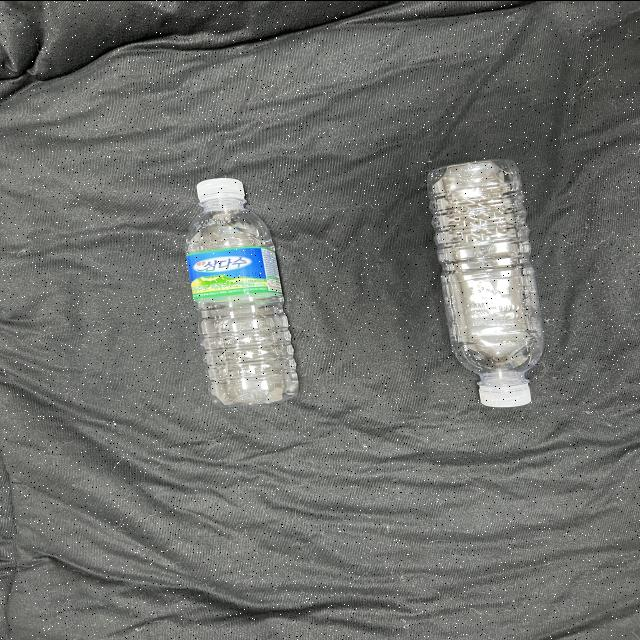plastic: (409, 141, 560, 417), (168, 160, 300, 418)
